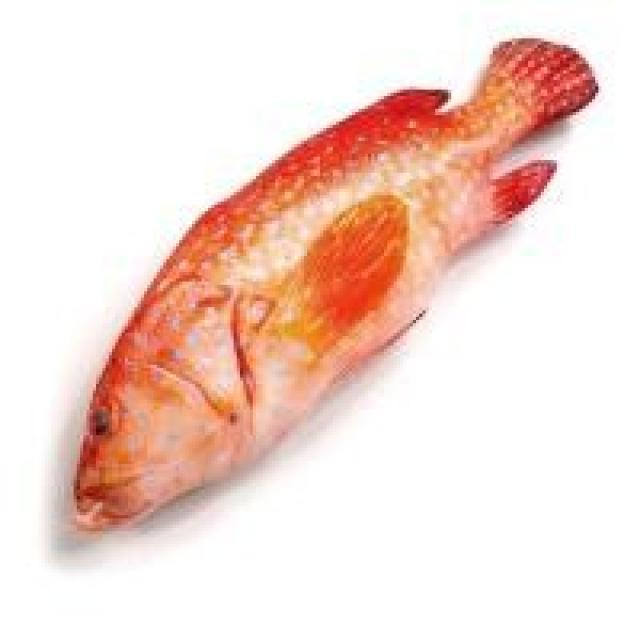Plectropomus-leopardus: (69, 21, 601, 564)
